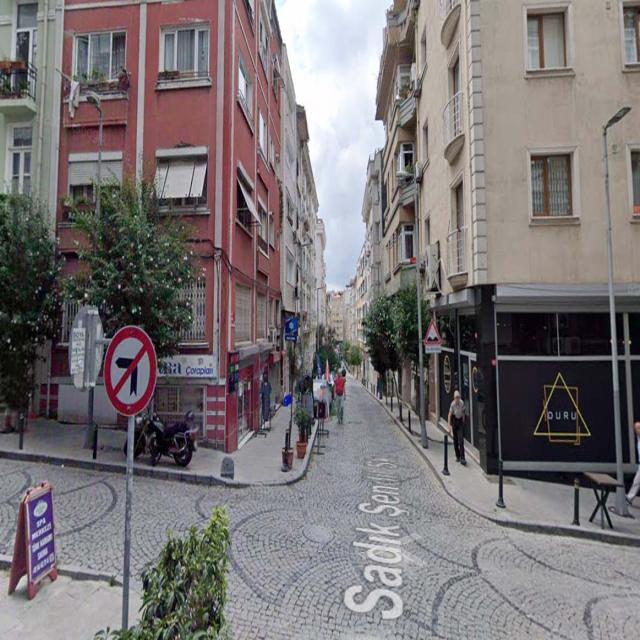soladonulmez: (106, 323, 154, 416)
